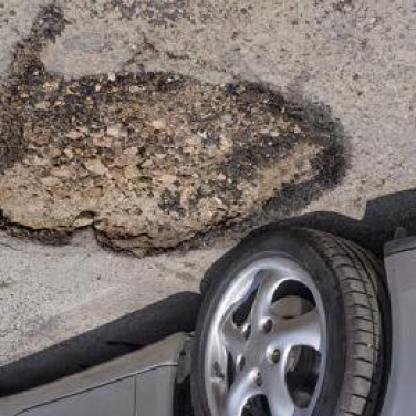pothole: (1, 69, 352, 263)
